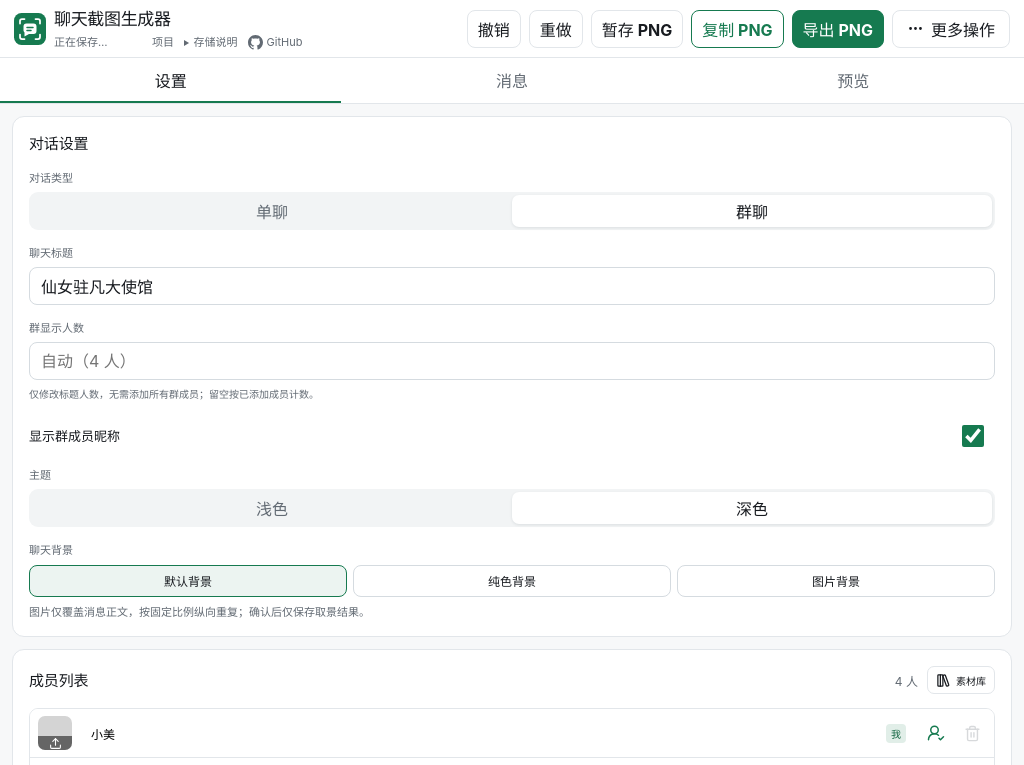
export snapshot safety › measures actual overflow and long-image size when exporting from mobile 消息
Click the tab "消息" at (512, 80), box [341,58,683,103]
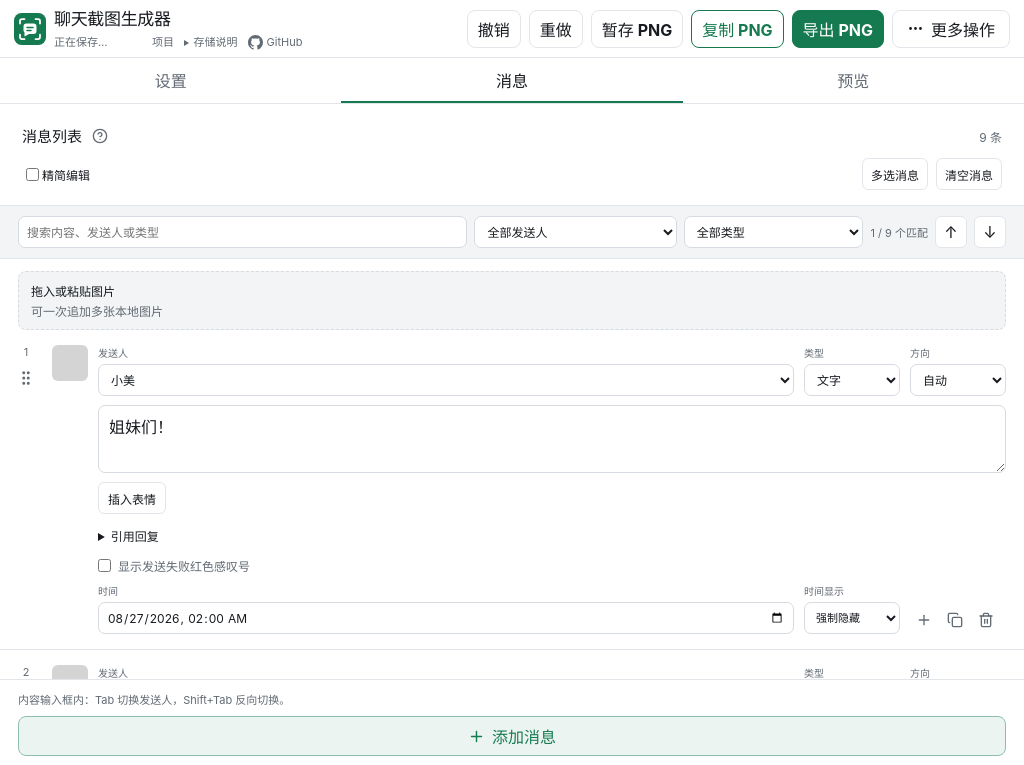
Click the button "导出 PNG" at (838, 28), box [792,10,884,48]
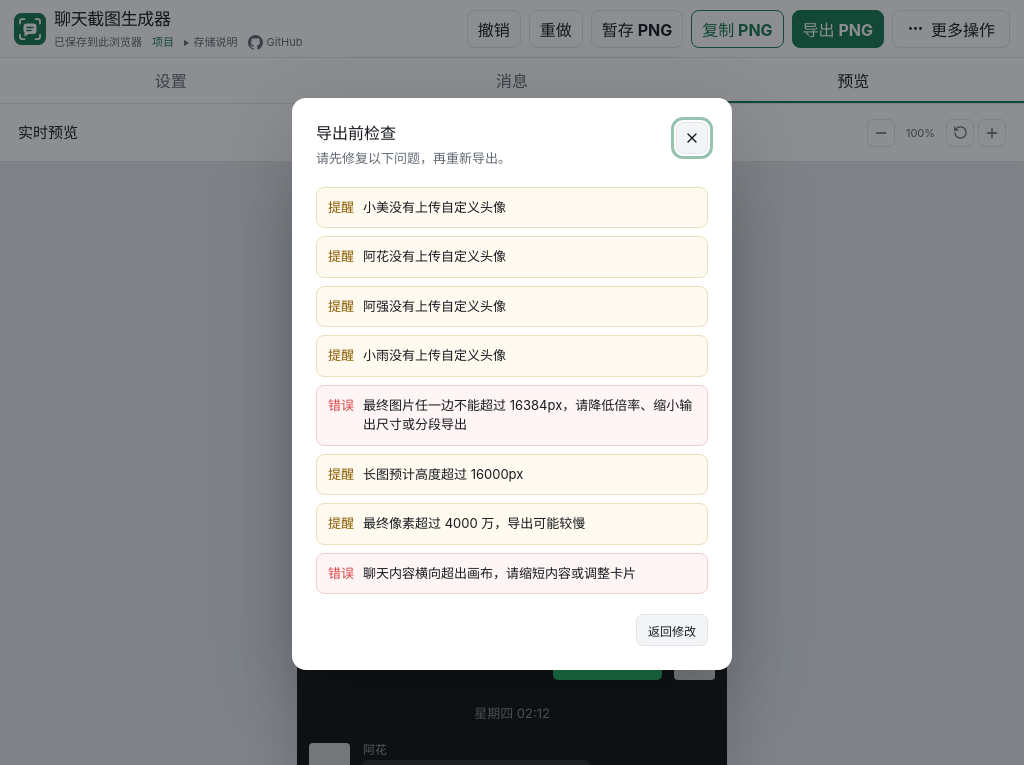
Expected: the text "聊天内容横向超出画布，请缩短内容或调整卡片" is shown, [363,565,636,581]
Expected: the text "长图预计高度超过 16000px" is shown, [363,466,523,482]
Expected: the text "最终像素超过 4000 万，导出可能较慢" is shown, [363,515,585,531]
